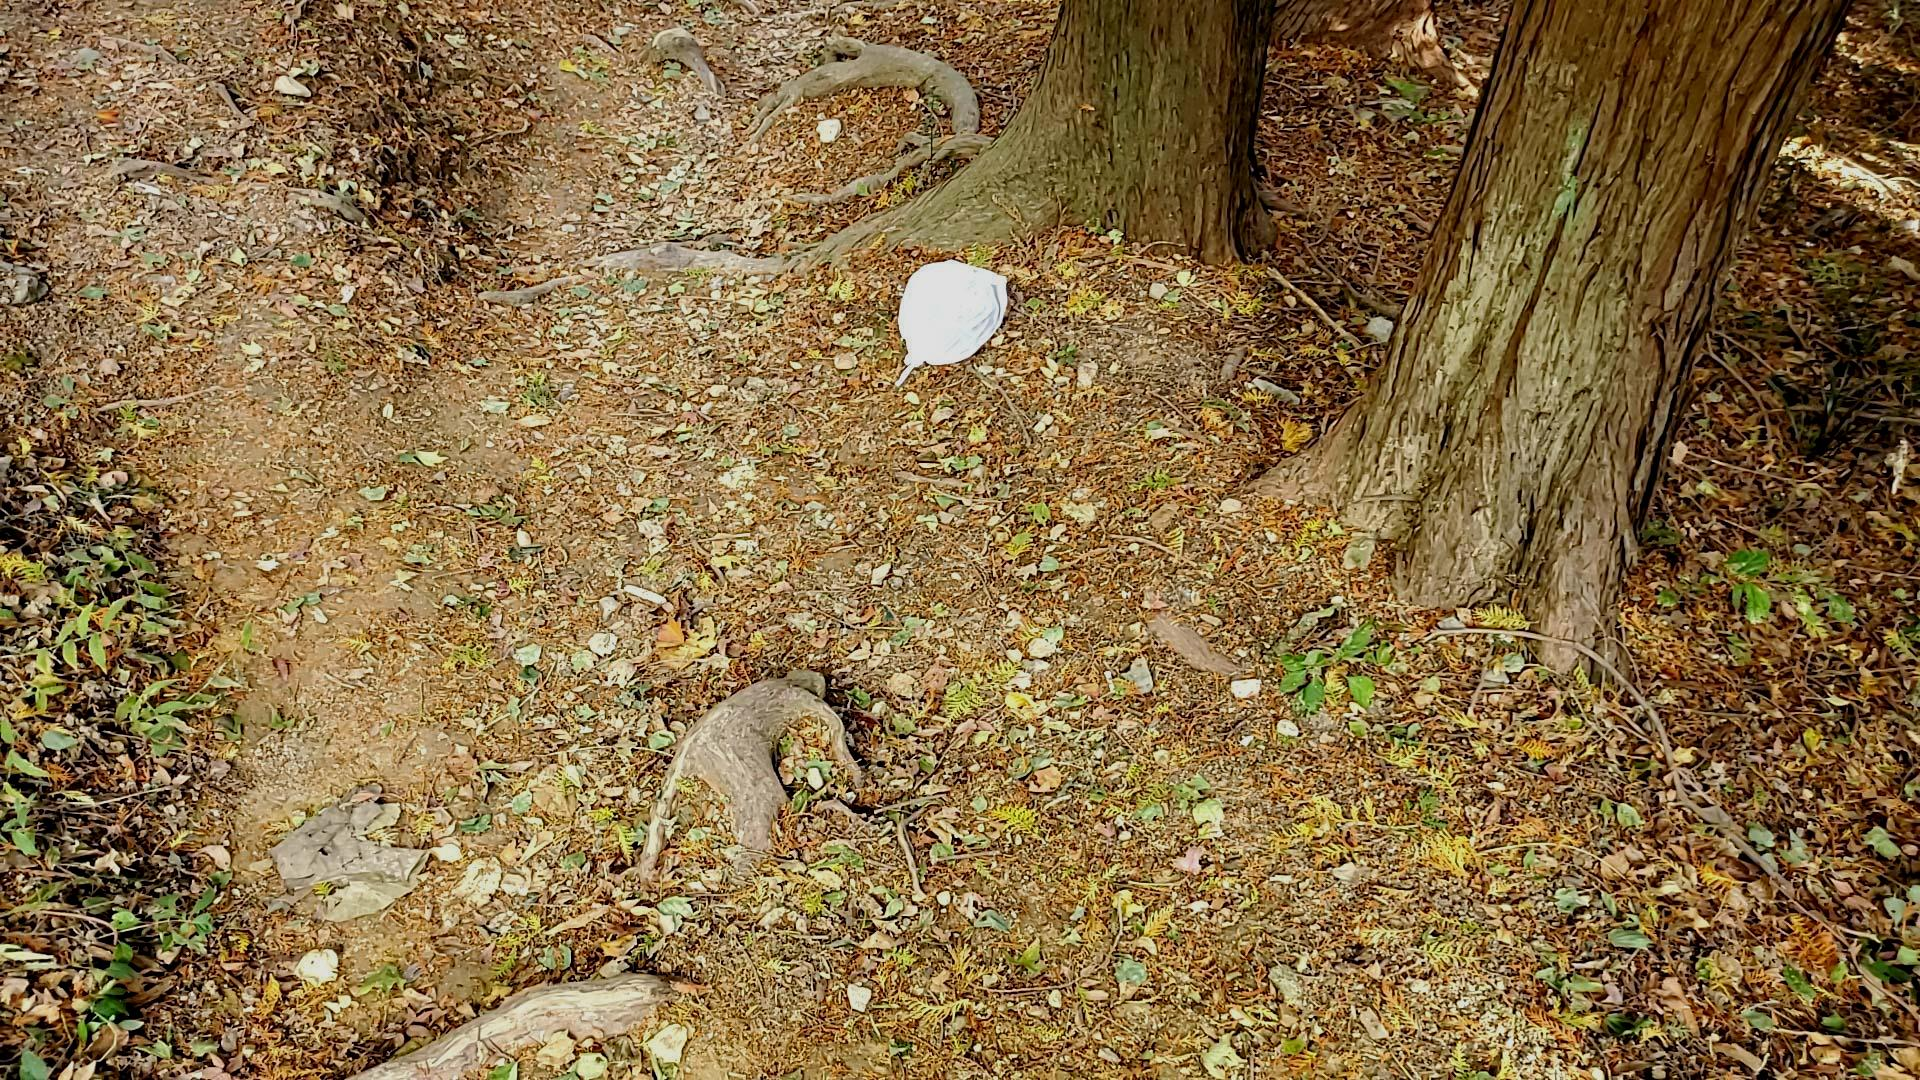white_bag: (885, 258, 1013, 404)
